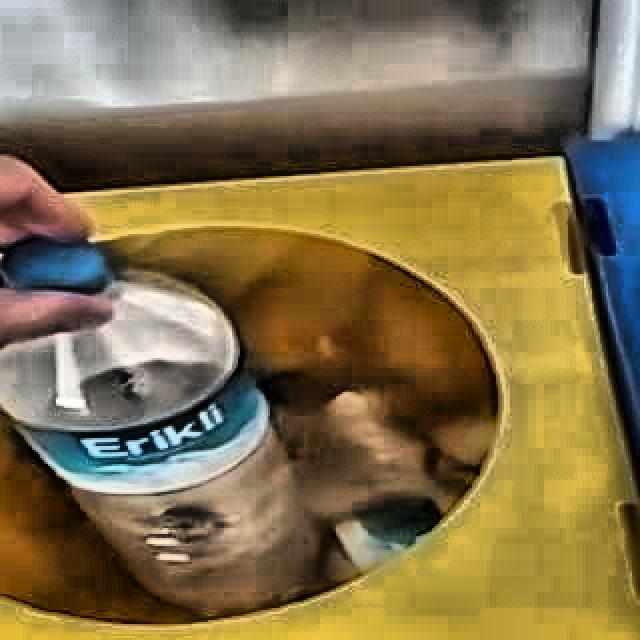plastic: (0, 238, 323, 619)
